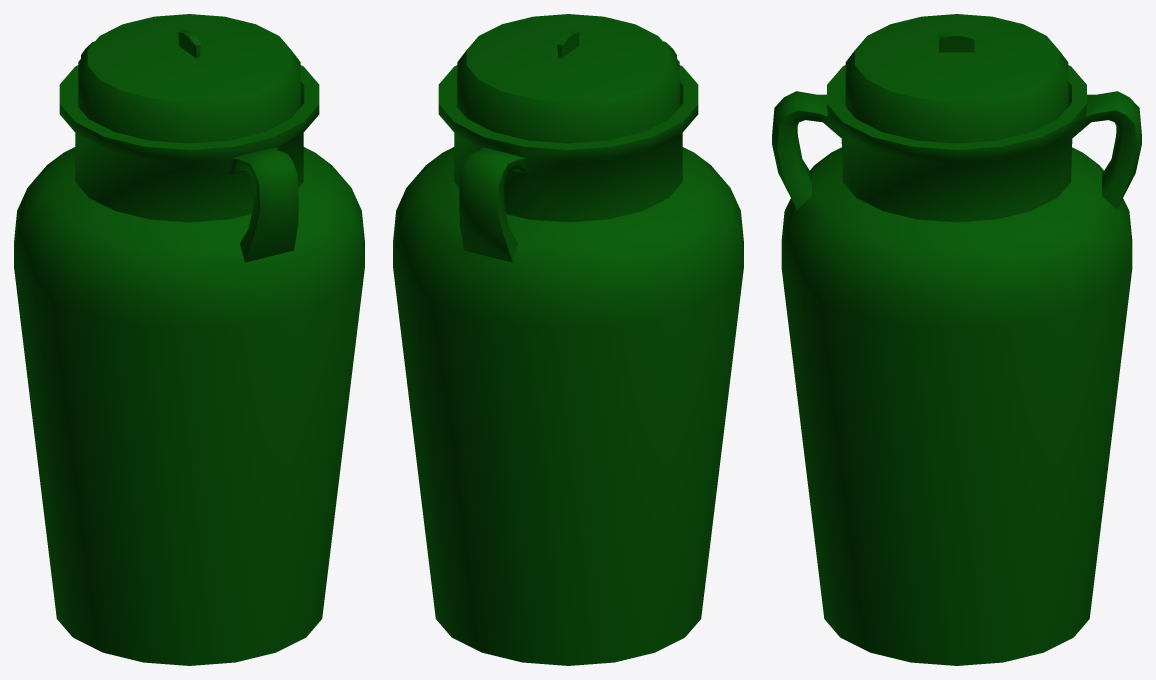
File: jug01.FBX
3 renders of one model, left to right at view 1: azimuth 30°, elevation 25°; view 2: azimuth 150°, elevation 25°; view 3: azimuth 270°, elevation 25°, orthographic.
Parts seen in each view (by area): view 1: SM_jug01_0; view 2: SM_jug01_0; view 3: SM_jug01_0.
Part boxes in pixels (x1,y1,x2,y2): SM_jug01_0: [14, 14, 364, 665]; SM_jug01_0: [393, 14, 743, 665]; SM_jug01_0: [772, 14, 1141, 665].
Bounding box in the file's own units: 35.1 × 36.42 × 62.47.
